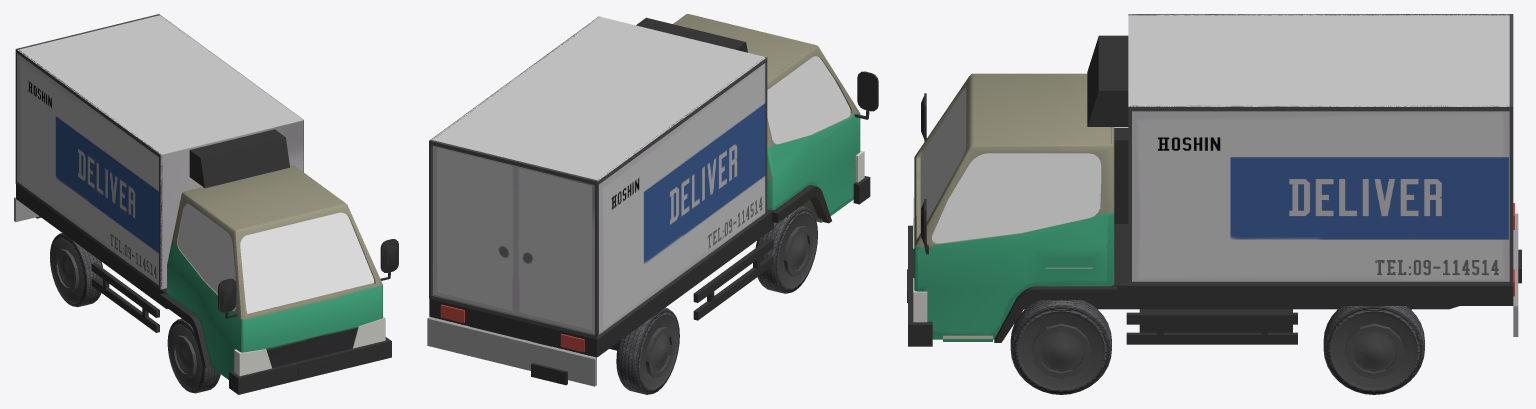
3 views of the same model, side by side, from view 1: azimuth 30°, elevation 25°; view 2: azimuth 150°, elevation 25°; view 3: azimuth 270°, elevation 25° (orthographic). The views are drawn at different scales.
Visible parts, largest first — view 1: 貨車貨櫃, 本體, 玻璃, BackRight, FrontRight, 右車燈, 左車燈; view 2: 貨車貨櫃, 本體, 貨櫃左門, 貨櫃右門, 玻璃, BackRight, FrontRight, 車尾燈; view 3: 貨車貨櫃, 本體, 玻璃, FrontLeft, BackLeft.
Part boxes in pixels (x1,y1,x2,y2): 貨車貨櫃: (15,14,303,289); 本體: (14,129,398,394); 玻璃: (177,203,374,313); BackRight: (50,233,102,307); FrontRight: (167,318,220,393); 右車燈: (234,349,271,376); 左車燈: (353,316,385,348); 貨車貨櫃: (429,16,767,339); 本體: (427,14,878,386); 貨櫃左門: (437,148,515,311); 貨櫃右門: (516,167,592,329); 玻璃: (767,56,850,144); BackRight: (616,307,679,394); FrontRight: (755,206,817,293); 車尾燈: (440,304,584,352); 貨車貨櫃: (1128,14,1513,285); 本體: (907,35,1521,346); 玻璃: (920,86,1101,243); FrontLeft: (1010,300,1111,394); BackLeft: (1323,306,1424,394).
Bounding box in the file's own units: 252 × 291 × 561.
Materials: 9 (3 with a texture image).
